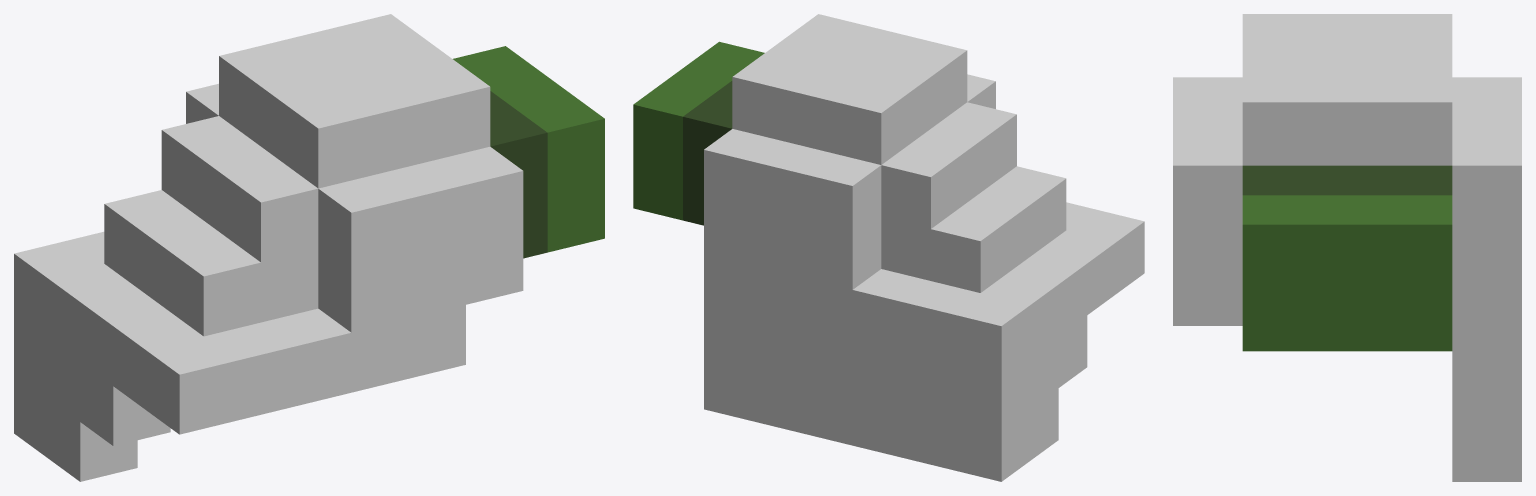
Rendered from MKnightArmUpperL.fbx.
3 views of the same model, side by side, from view 1: azimuth 30°, elevation 25°; view 2: azimuth 150°, elevation 25°; view 3: azimuth 270°, elevation 25° (orthographic). The views are drawn at different scales.
Visible parts, largest first — view 1: FemKnightArms_1_part_2; view 2: FemKnightArms_1_part_2; view 3: FemKnightArms_1_part_2.
Boxes of the visible parts, <box> form: FemKnightArms_1_part_2: <box>14,14,604,481</box>; FemKnightArms_1_part_2: <box>633,14,1144,481</box>; FemKnightArms_1_part_2: <box>1173,14,1521,481</box>.
Size of the model in its own units: 8 by 6 by 5.
Materials: 1 (1 with a texture image).
